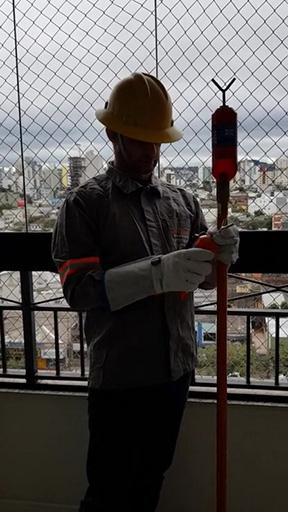Detector_Tensao_Contato: (210, 76, 239, 183)
Vara_Manobra: (215, 180, 230, 512)
